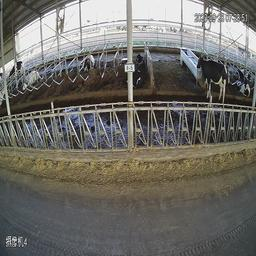cow: (195, 55, 229, 106), (130, 51, 147, 93), (235, 67, 251, 99), (21, 70, 42, 90), (9, 61, 26, 83), (81, 54, 96, 73)
